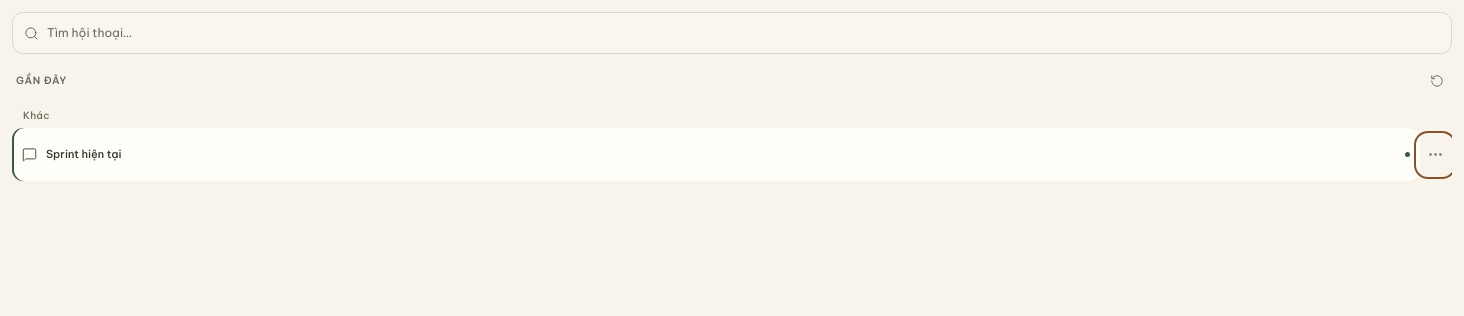
Test case: conversation lifecycle controls › opens options with the keyboard and dismisses them without invoking an action
Press ArrowDown in the button named "Tùy chọn: Sprint hiện tại", box x1=1420 y1=136 x2=1450 y2=172
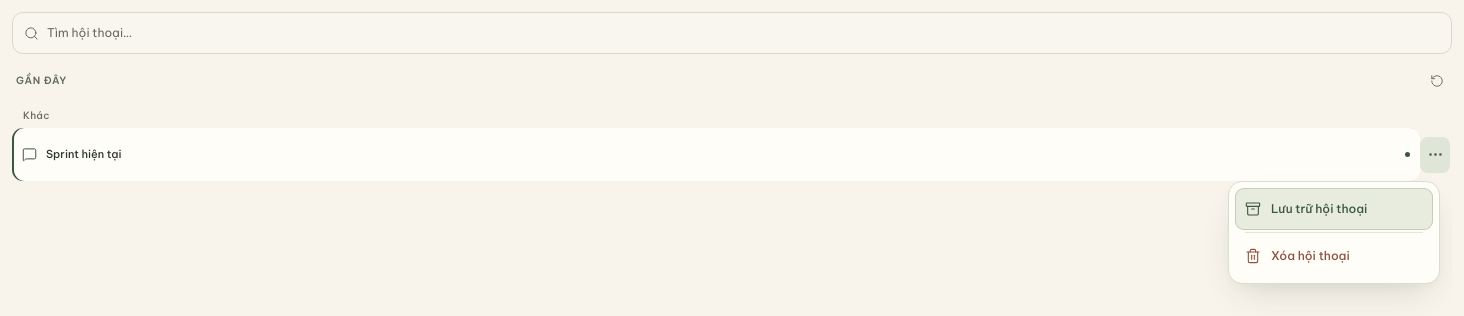
Press ArrowDown in the button "Lưu trữ hội thoại", box x1=1235 y1=188 x2=1433 y2=230
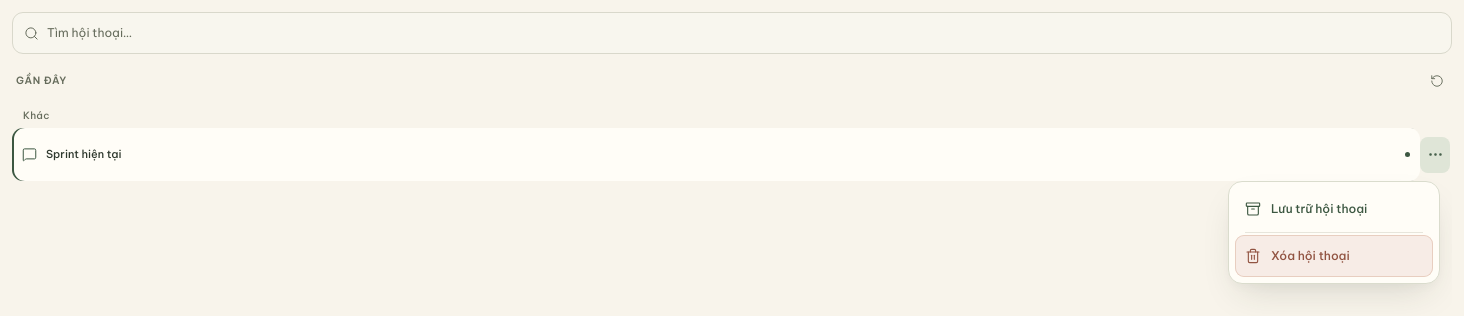
Press Escape in the button "Xóa hội thoại", box x1=1235 y1=234 x2=1433 y2=276
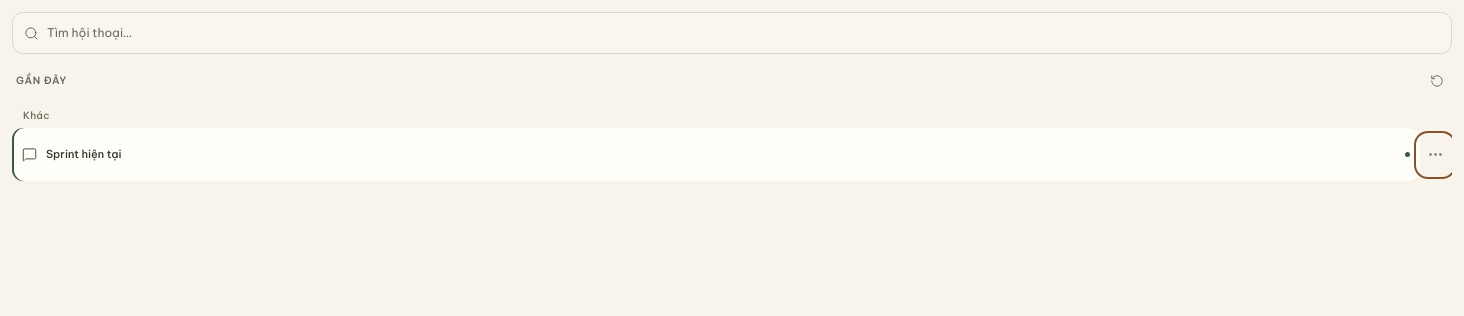
expect the button named "Tùy chọn: Sprint hiện tại" is collapsed: met
Click the button named "Tùy chọn: Sprint hiện tại": (1435, 154) x1=1420 y1=136 x2=1450 y2=172
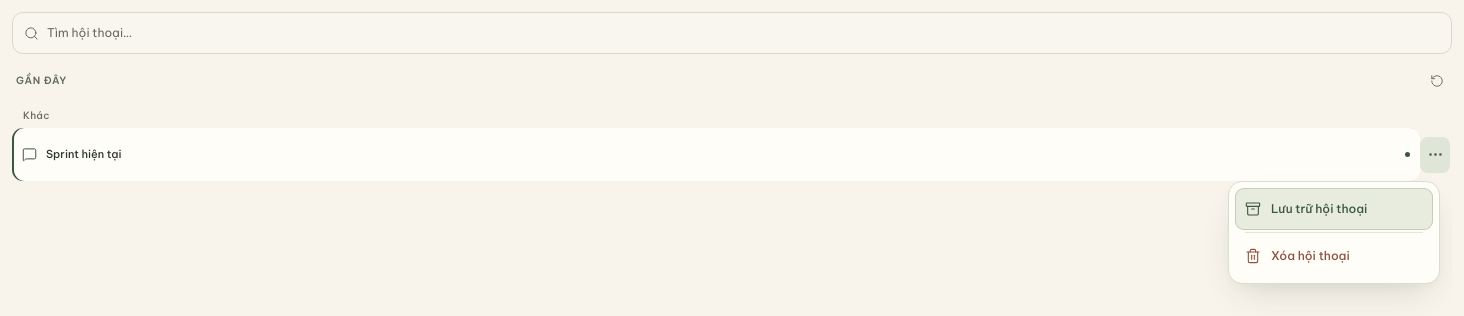
Press the mouse on the search field: (744, 33) x1=47 y1=13 x2=1440 y2=53
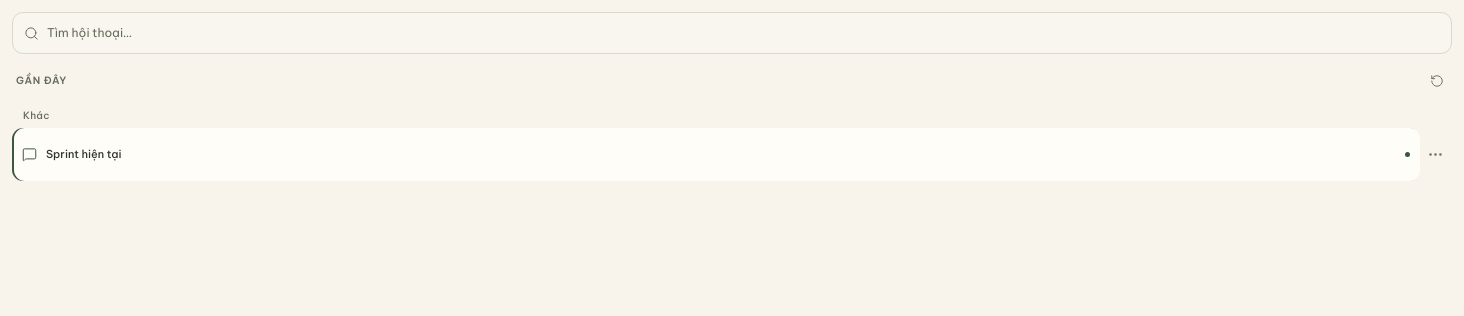
expect the button "Lưu trữ hội thoại" is gone: met
